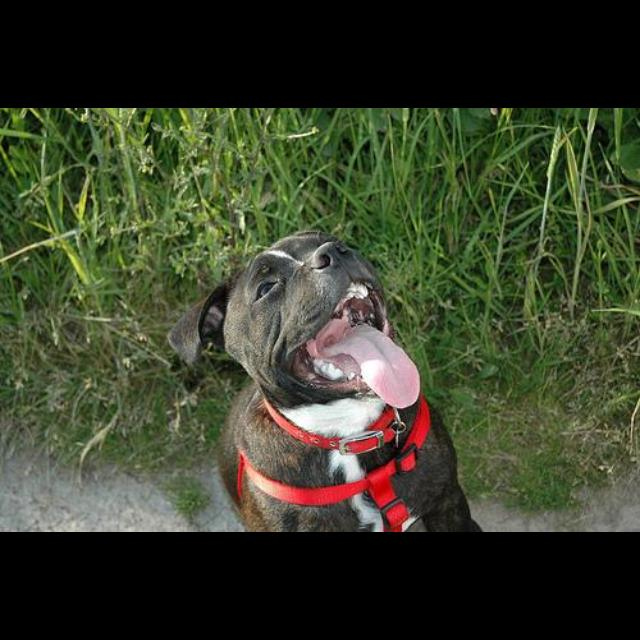amstaff: (166, 230, 484, 533)
